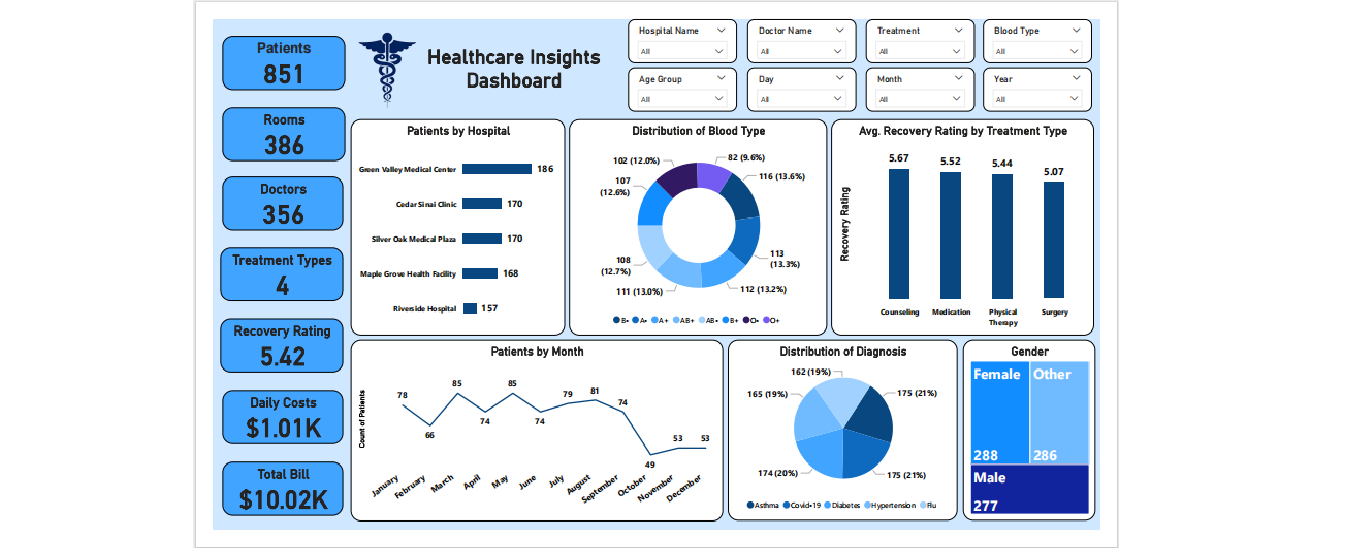

Layout of this report page (visuals, bound fields, positions):
{"tool":"powerbi","page":{"name":"DASHBOARD","canvas":[1280,720],"ordinal":14},"visuals":[{"type":"treemap","title":" Gender ","fields":{"Group":["Final_Merge1.Gender"],"Values":["Final_Merge1.Gender"]},"box":[1081.8,452.4,191.1,255],"z":0},{"type":"barChart","title":"Patients by Hospital","fields":{"Category":["Final_Merge1.Sheet2.Hospital"],"Y":["Final_Merge1.PatientID"]},"box":[199.3,140.9,308.8,305.2],"z":1000},{"type":"donutChart","title":"Distribution of Blood Type ","fields":{"Y":["Final_Merge1.BloodType"],"Category":["Final_Merge1.BloodType"]},"box":[513.5,140.9,372.6,305.2],"z":2000},{"type":"card","title":"Patients","fields":{"Values":["Final_Merge1.PatientID"]},"box":[14.4,24.4,176.7,75.6],"z":3000},{"type":"pieChart","title":"Distribution of Diagnosis","fields":{"Category":["Final_Merge1.Diagnosis"],"Y":["Final_Merge1.Diagnosis"]},"box":[743.1,452.4,330.7,255],"z":4000},{"type":"lineChart","title":"Patients by Month","fields":{"Y":["Final_Merge1.PatientID"],"Category":["Final_Merge1.AdmissionDate.Variation.Date Hierarchy.Month"]},"box":[198.9,452.2,536.7,255.6],"z":5000},{"type":"slicer","fields":{"Values":["Final_Merge1.Sheet2.Hospital"]},"box":[598.8,0,157.1,61.9],"z":6000},{"type":"slicer","fields":{"Values":["Final_Merge1.AdmissionDate.Variation.Date Hierarchy.Month"]},"box":[941.7,68.2,157.1,61.9],"z":7000},{"type":"slicer","fields":{"Values":["Final_Merge1.Treatment"]},"box":[941.7,0,157.1,61.9],"z":8000},{"type":"slicer","fields":{"Values":["Final_Merge1.AdmissionDate.Variation.Date Hierarchy.Year"]},"box":[1111.4,68.2,156.2,61.9],"z":9000},{"type":"slicer","fields":{"Values":["Final_Merge1.Sheet2.DoctorName"]},"box":[771.2,0,157.1,61.9],"z":10000},{"type":"columnChart","title":"Avg. Recovery Rating by Treatment Type","fields":{"Category":["Final_Merge1.Sheet2.TreatmentType"],"Y":["Final_Merge1.Sheet2.RecoveryRating"]},"box":[892.4,140.9,378.9,305.2],"z":11000},{"type":"slicer","fields":{"Values":["Final_Merge1.AdmissionDate.Variation.Date Hierarchy.Day"]},"box":[771.2,68.2,157.1,61.9],"z":12000},{"type":"card","title":"Rooms","fields":{"Values":["Final_Merge1.Sheet2.RoomNumber"]},"box":[14.4,124.4,176.7,75.6],"z":13000},{"type":"card","title":"Doctors","fields":{"Values":["Final_Merge1.Sheet2.DoctorName"]},"box":[14.4,222.2,173.3,75.6],"z":14000},{"type":"card","title":"Daily Costs","fields":{"Values":["Final_Merge1.Sheet2.DailyCost"]},"box":[14.4,523.3,173.3,75.6],"z":15000},{"type":"card","title":"Recovery Rating","fields":{"Values":["Final_Merge1.Sheet2.RecoveryRating"]},"box":[11.1,422.2,176.7,75.6],"z":16000},{"type":"card","title":"Total Bill","fields":{"Values":["Final_Merge1.Total_Bill"]},"box":[14.4,624.4,173.3,75.6],"z":17000},{"type":"card","title":"Treatment Types","fields":{"Values":["Final_Merge1.Sheet2.TreatmentType"]},"box":[11.1,322.2,176.7,74.4],"z":18000},{"type":"slicer","fields":{"Values":["Final_Merge1.Age_Group"]},"box":[598.8,68.2,157.1,61.9],"z":19000},{"type":"slicer","fields":{"Values":["Final_Merge1.BloodType"]},"box":[1111,0,157,62],"z":20000},{"type":"image","box":[180.4,0,143.6,143.6],"z":21000},{"type":"textbox","box":[287.3,31.4,294.5,82.6],"z":22000}]}

Visuals, with their boxes on the page's 1280x720 design canvas (x1, y1, x2, y2). These are canvas units, not pixel positions in the 1357x548 screenshot, which may show the page scaled, cropped or inside an application window:
" Gender " treemap: <box>1082,452,1273,707</box>
"Patients by Hospital" barChart: <box>199,141,508,446</box>
"Distribution of Blood Type " donutChart: <box>514,141,886,446</box>
"Patients" card: <box>14,24,191,100</box>
"Distribution of Diagnosis" pieChart: <box>743,452,1074,707</box>
"Patients by Month" lineChart: <box>199,452,736,708</box>
slicer - Final_Merge1.Sheet2.Hospital: <box>599,0,756,62</box>
slicer - Final_Merge1.AdmissionDate.Variation.Date Hierarchy.Month: <box>942,68,1099,130</box>
slicer - Final_Merge1.Treatment: <box>942,0,1099,62</box>
slicer - Final_Merge1.AdmissionDate.Variation.Date Hierarchy.Year: <box>1111,68,1268,130</box>
slicer - Final_Merge1.Sheet2.DoctorName: <box>771,0,928,62</box>
"Avg. Recovery Rating by Treatment Type" columnChart: <box>892,141,1271,446</box>
slicer - Final_Merge1.AdmissionDate.Variation.Date Hierarchy.Day: <box>771,68,928,130</box>
"Rooms" card: <box>14,124,191,200</box>
"Doctors" card: <box>14,222,188,298</box>
"Daily Costs" card: <box>14,523,188,599</box>
"Recovery Rating" card: <box>11,422,188,498</box>
"Total Bill" card: <box>14,624,188,700</box>
"Treatment Types" card: <box>11,322,188,397</box>
slicer - Final_Merge1.Age_Group: <box>599,68,756,130</box>
slicer - Final_Merge1.BloodType: <box>1111,0,1268,62</box>
image: <box>180,0,324,144</box>
textbox: <box>287,31,582,114</box>
